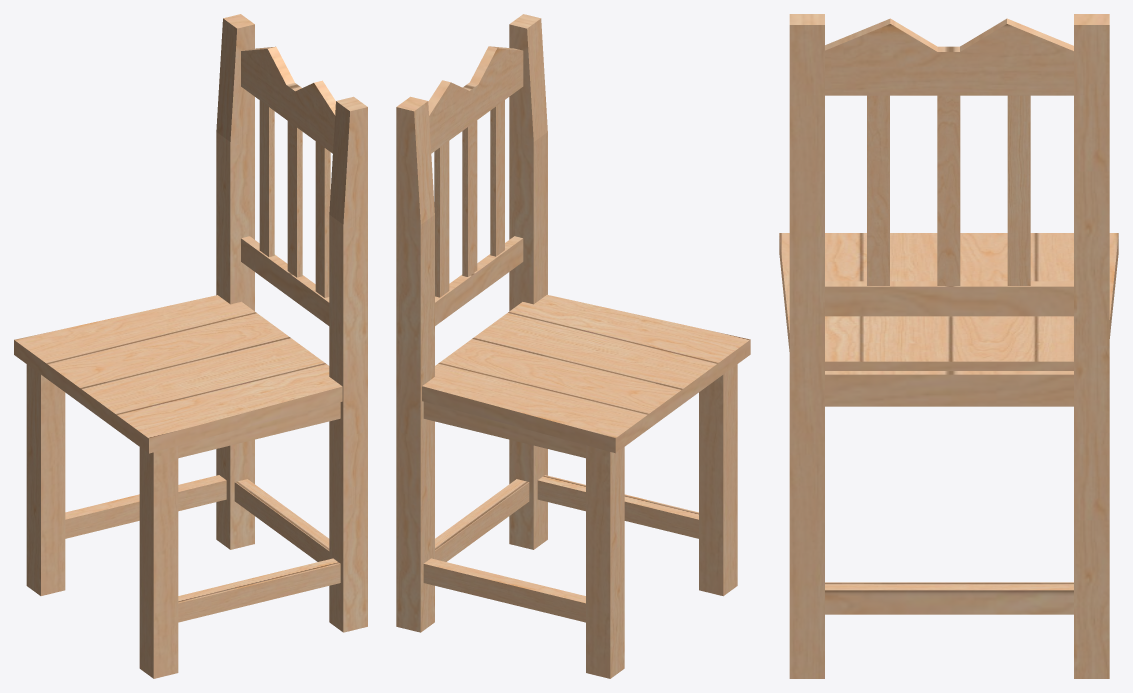
The model's file is House_Demo_035-col.glb.
3 renders of one model, left to right at view 1: azimuth 30°, elevation 25°; view 2: azimuth 150°, elevation 25°; view 3: azimuth 270°, elevation 25°, orthographic. The views are drawn at different scales.
Parts seen in each view (by area): view 1: House_Demo_035-col; view 2: House_Demo_035-col; view 3: House_Demo_035-col.
Boxes of the visible parts, x1,y1,x2,y2 form: House_Demo_035-col: (14,14,367,678); House_Demo_035-col: (396,14,750,678); House_Demo_035-col: (779,14,1118,678).
Size of the model in its own units: 0.5127 by 1.14 by 0.537.
1 material, 1 textured.
